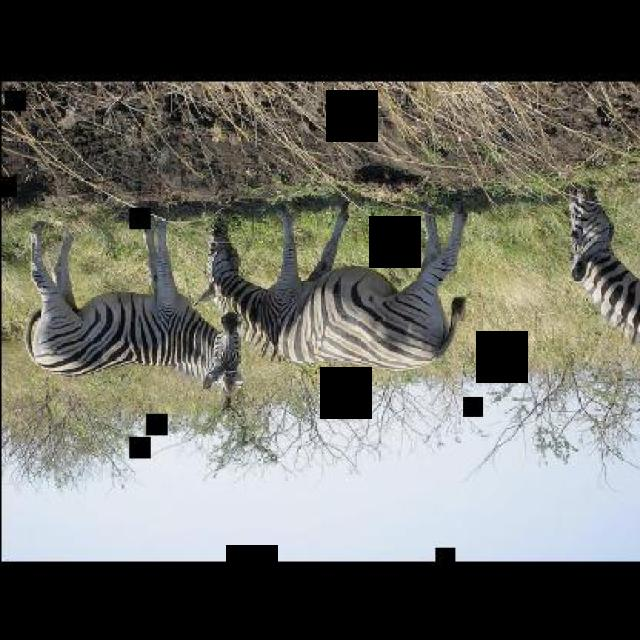unauthorized: (202, 200, 468, 371), (23, 215, 243, 400), (563, 180, 639, 366)
